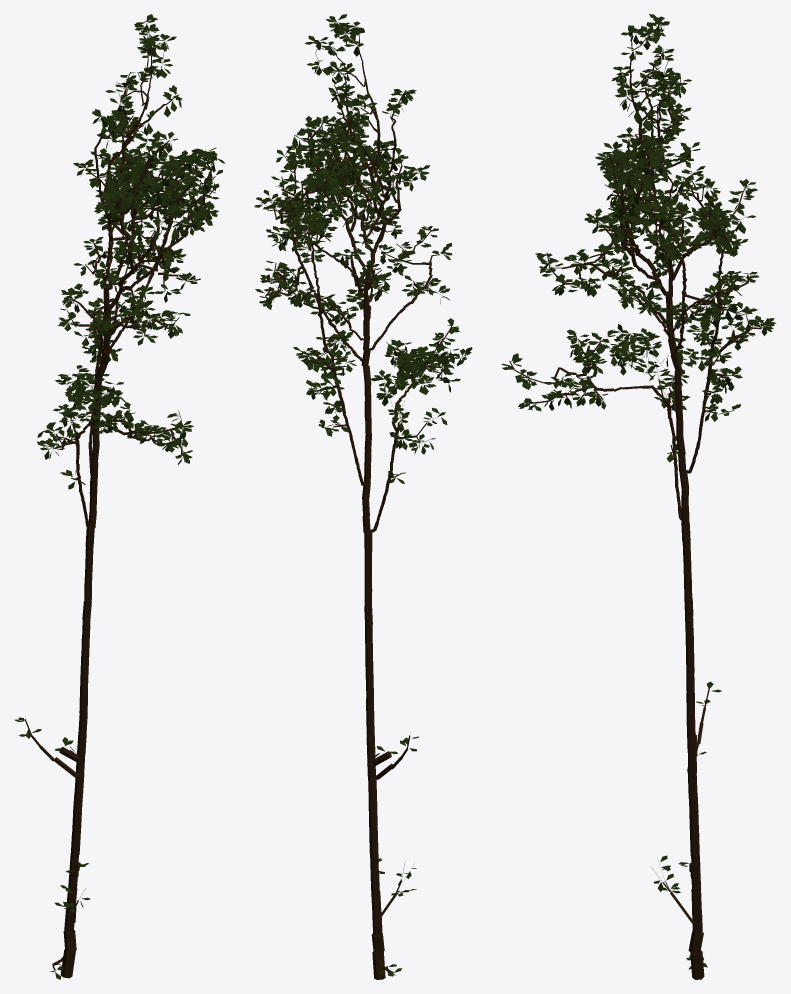
Rendered from 2022_tree_157.obj.
The picture shows the model from 3 angles, left to right: view 1: azimuth 30°, elevation 25°; view 2: azimuth 150°, elevation 25°; view 3: azimuth 270°, elevation 25°; orthographic projection. The views are drawn at different scales.
Parts seen in each view (by area): view 1: Leaves, TrunkAndBranches; view 2: Leaves, TrunkAndBranches; view 3: Leaves, TrunkAndBranches.
Part boxes in pixels (<box>): Leaves: <box>14,14,225,979</box>; TrunkAndBranches: <box>24,19,215,978</box>; Leaves: <box>254,14,472,976</box>; TrunkAndBranches: <box>261,21,467,979</box>; Leaves: <box>501,14,775,969</box>; TrunkAndBranches: <box>509,20,764,979</box>.
Bounding box in the file's own units: 5.29 × 26.76 × 6.73.
